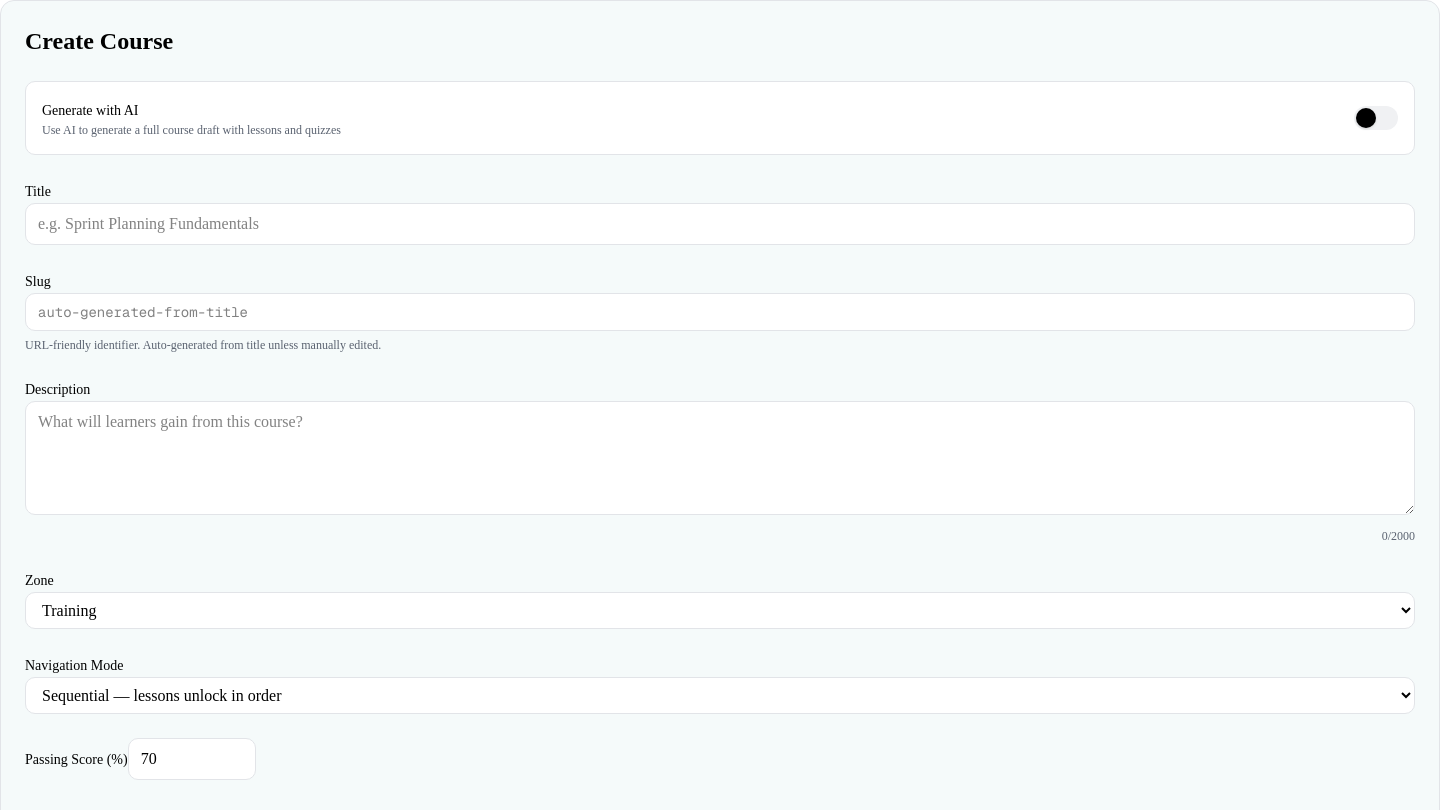
Test: CourseForm › Create mode (no course prop) › handles 409 slug conflict from API
The image size is (1440, 810).
In the field labelled "Title": (720, 224) [25,203,1415,245], type "Conflict Course"
(page scrolled)
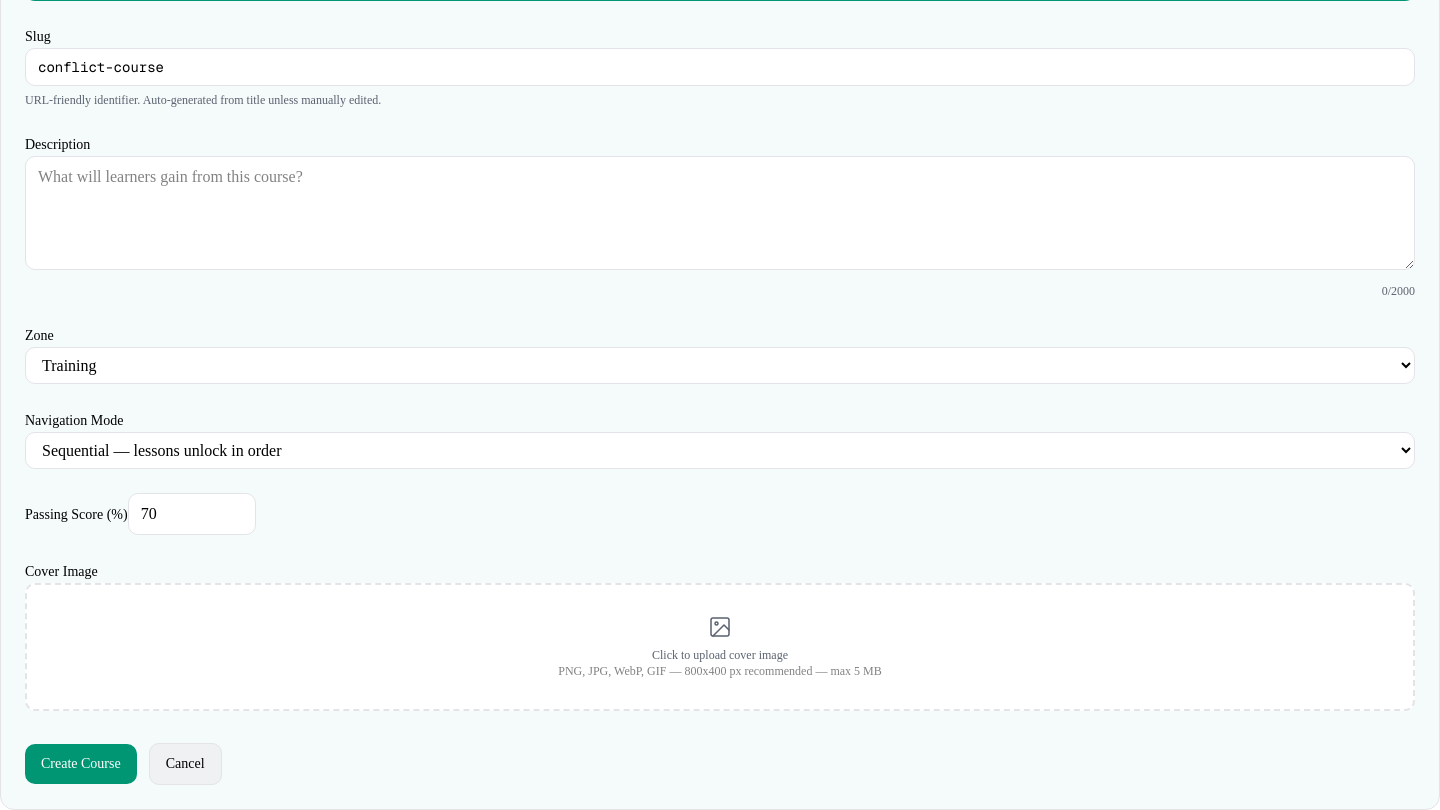
Click the button "Create Course": click(81, 764) [25,744,137,784]
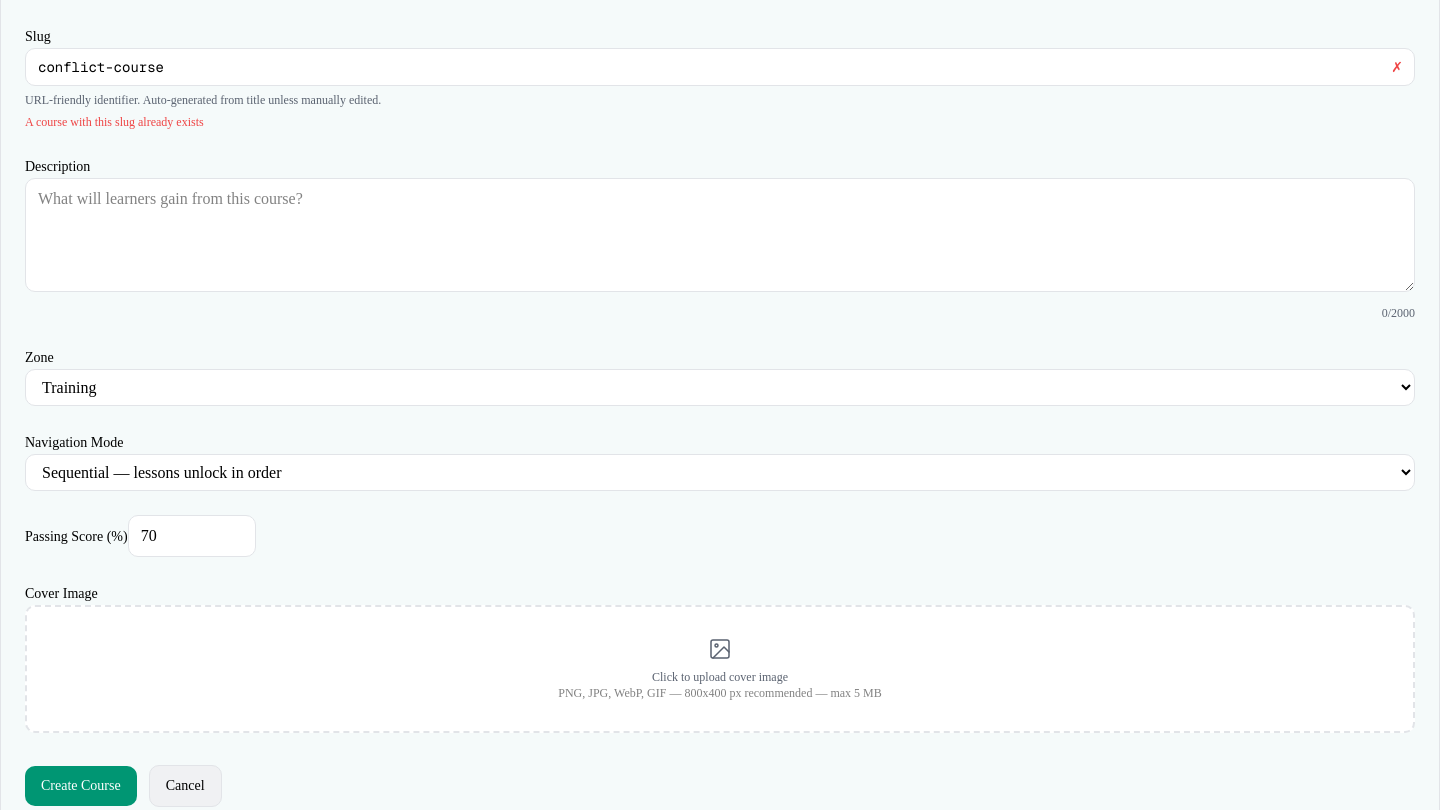
expect the text "A course with this slug already exists" is shown: met, box [25,115,204,129]
